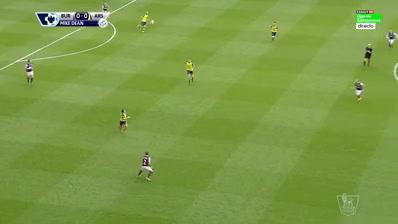futbol: (149, 18, 157, 26)
player: (137, 150, 156, 183), (117, 107, 133, 137), (183, 57, 198, 87), (23, 57, 37, 87), (352, 79, 368, 103), (137, 9, 151, 34), (268, 20, 281, 44), (385, 29, 397, 52)
referree: (361, 41, 375, 69)
